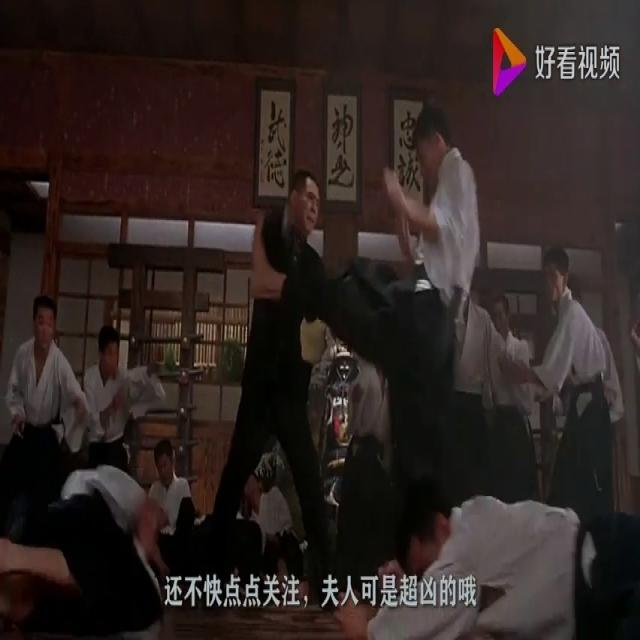fight: (196, 102, 491, 638)
non-fight: (1, 285, 89, 538)
